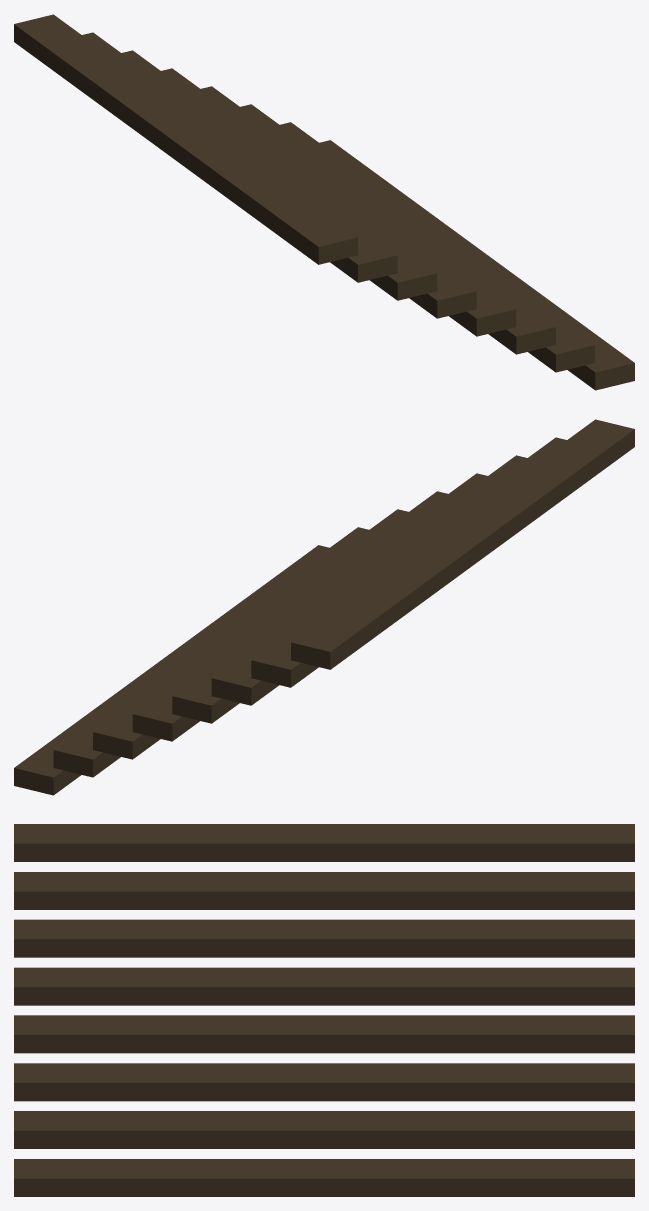
Rendered from clay-steps-near.glb.
The picture shows the model from 3 angles, top to bottom: view 1: azimuth 30°, elevation 25°; view 2: azimuth 150°, elevation 25°; view 3: azimuth 270°, elevation 25°; orthographic projection.
Parts seen in each view (by area): view 1: clay-steps-near; view 2: clay-steps-near; view 3: clay-steps-near.
Boxes of the visible parts, left/top/right/bottom form: clay-steps-near: left=14, top=14, right=634, bottom=390; clay-steps-near: left=14, top=419, right=634, bottom=795; clay-steps-near: left=14, top=824, right=634, bottom=1196.
Bounding box in the file's own units: 2.4 × 1.53 × 4.
